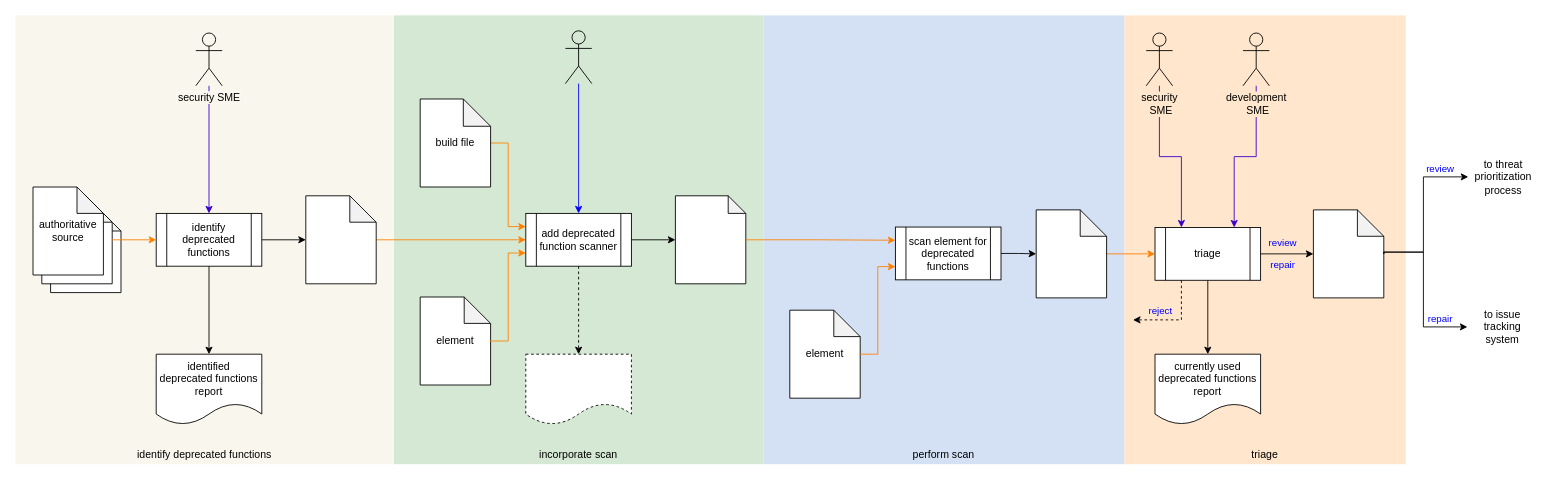
Some shapes in this 1553 by 479 pixel diagram are drawn without their labels. The shapes that lost their labels are listed below. From the top down, each one's box as (x1, y1, x2, y2) in pixels, then its label:
(565, 30, 592, 84): DevOps SME
(305, 195, 376, 284): deprecated functions
(675, 195, 746, 284): updated build file
(1035, 209, 1107, 298): scan output
(1313, 209, 1384, 298): identified issues
(525, 353, 631, 425): updated build settings report
